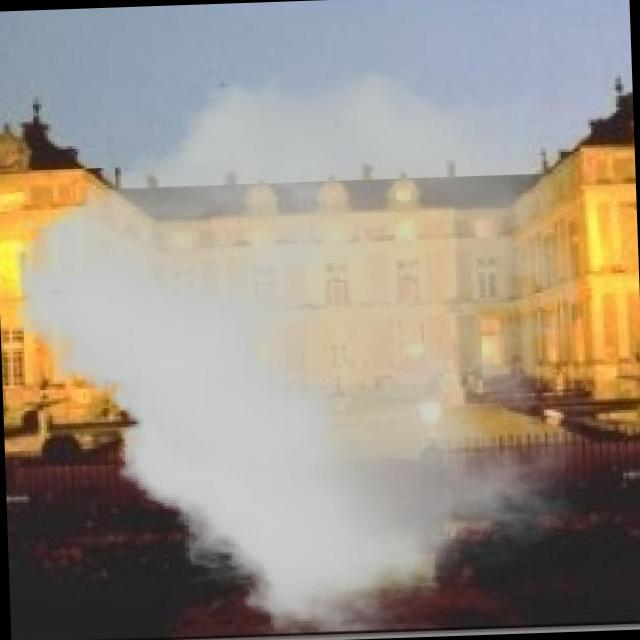Smoke: (9, 63, 588, 640)
